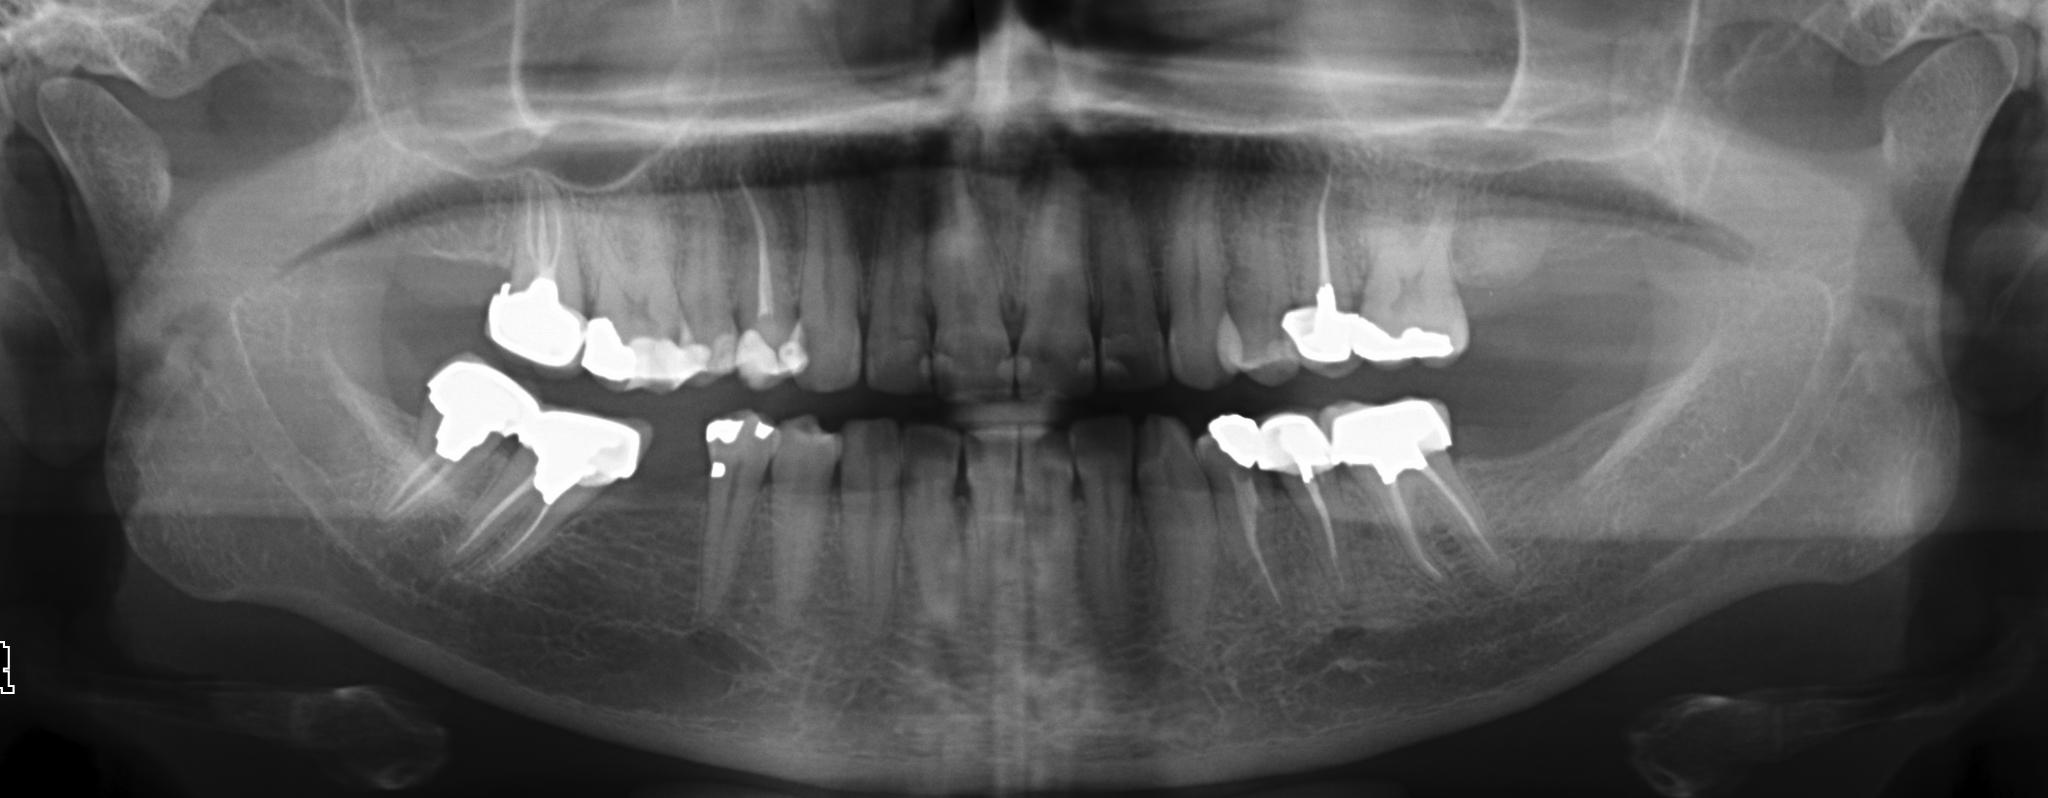Fillings: (383, 353, 542, 521), (577, 192, 699, 396), (1348, 188, 1471, 372), (692, 417, 775, 619)
Implant: (1335, 392, 1507, 606), (447, 398, 643, 586), (482, 171, 590, 374), (1283, 152, 1364, 377), (733, 185, 802, 384)
